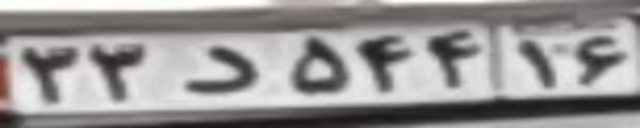1: (514, 39, 559, 89)
3: (89, 41, 151, 101), (23, 44, 80, 104)
4: (428, 29, 482, 88), (357, 35, 409, 90)
5: (288, 37, 348, 94)
6: (570, 34, 627, 86)
dal: (180, 44, 256, 92)
